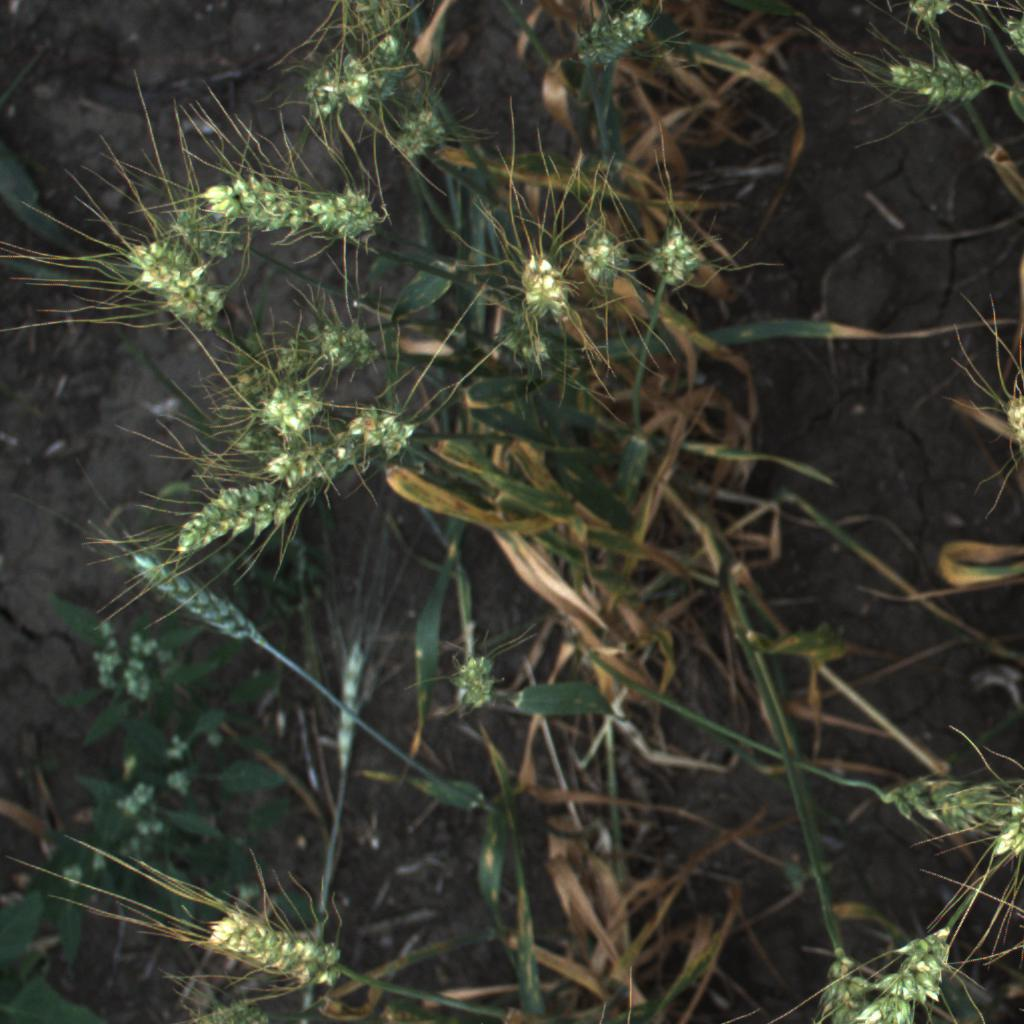0-0: (178, 154, 348, 298), (199, 888, 374, 1000), (145, 463, 324, 568), (117, 533, 266, 651), (111, 222, 244, 338), (876, 746, 1024, 840), (860, 912, 978, 1024), (303, 161, 399, 261), (559, 0, 682, 76), (427, 634, 521, 728), (879, 43, 992, 119), (494, 240, 581, 337), (560, 210, 640, 303), (241, 433, 375, 485), (345, 402, 447, 468), (241, 373, 336, 443), (799, 930, 869, 1020), (307, 311, 391, 383), (643, 218, 712, 299), (385, 99, 458, 167), (289, 42, 351, 122), (324, 35, 372, 131), (983, 360, 1024, 463), (363, 20, 409, 98), (260, 324, 327, 375), (984, 797, 1024, 869), (869, 0, 972, 25)
